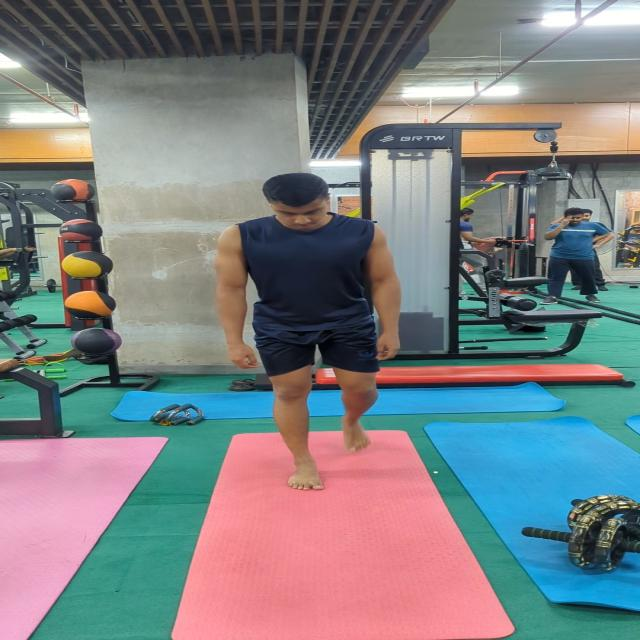Normal_Lunges: (212, 170, 406, 496)
